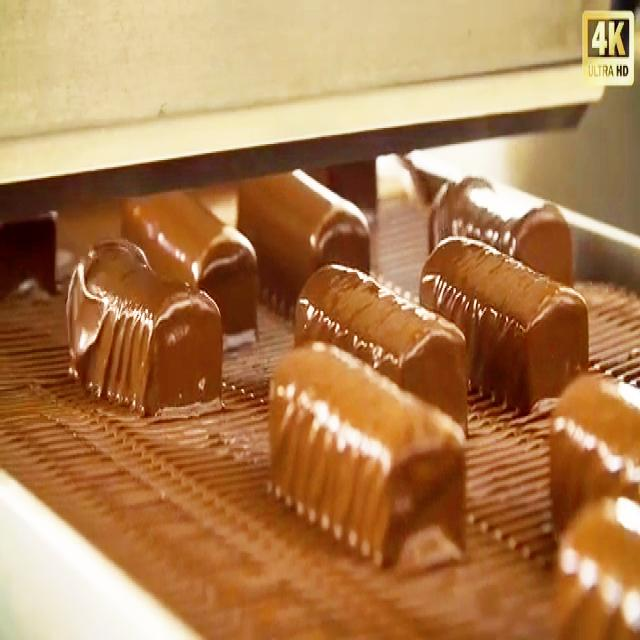Choco: (265, 336, 468, 567), (292, 258, 469, 436), (418, 231, 589, 409), (64, 233, 224, 416), (428, 155, 576, 305), (123, 198, 261, 352), (241, 181, 383, 318), (541, 351, 640, 534), (555, 490, 640, 640)
